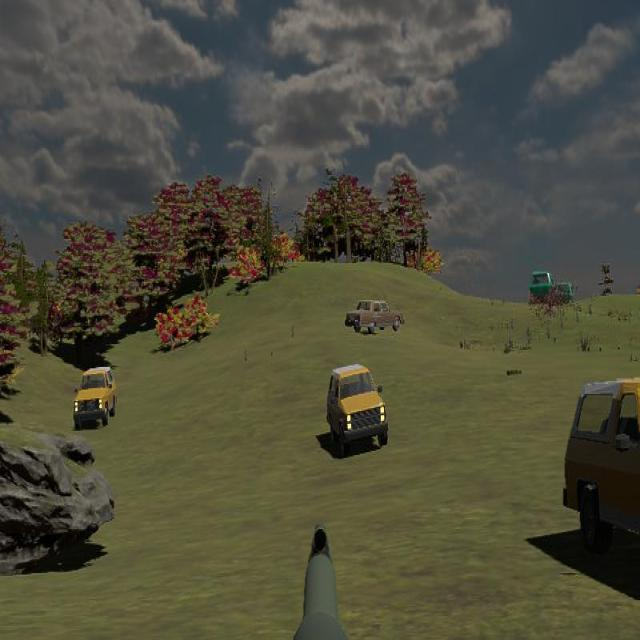car: (562, 375, 640, 597), (326, 363, 388, 457), (73, 365, 116, 430), (344, 298, 404, 334)
